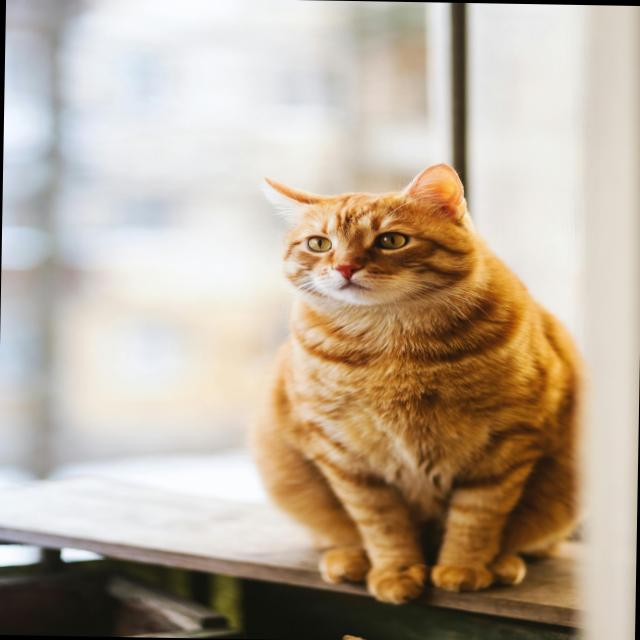Cat: (226, 164, 542, 339)
